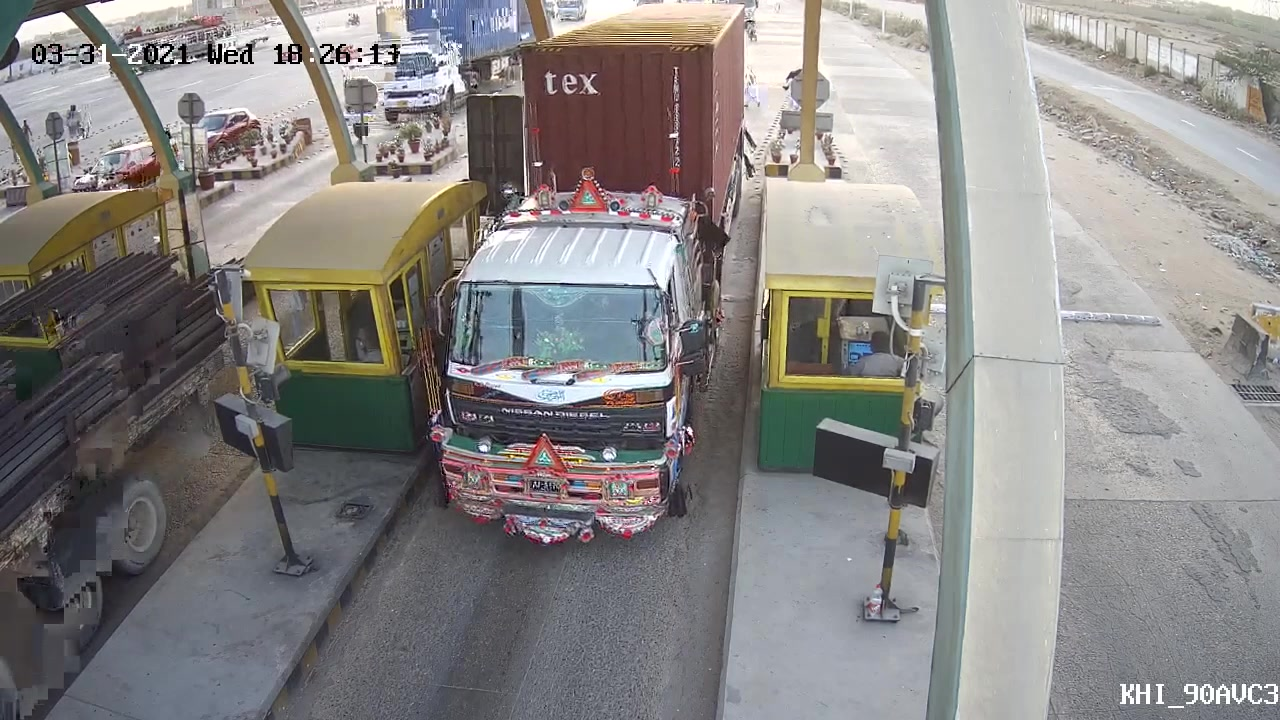F6: (415, 94, 736, 554)
